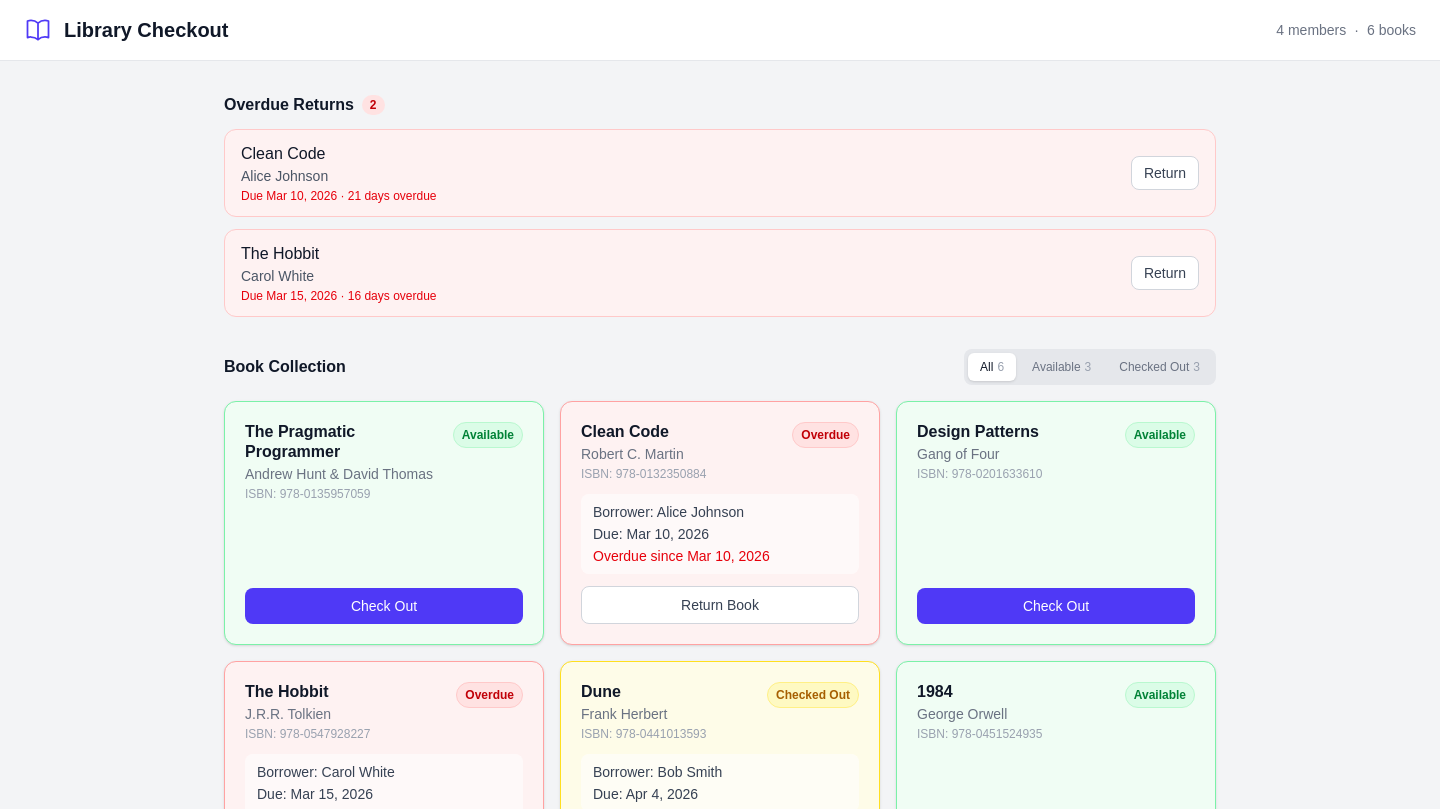
HomeView › checkout flow › opens the checkout modal when Check Out is clicked
The image size is (1440, 809).
Note: Design Patterns (b3) is available
Step 1. Click the button "Check Out" below "978-0201633610" → (1056, 606), box x1=917 y1=588 x2=1195 y2=624
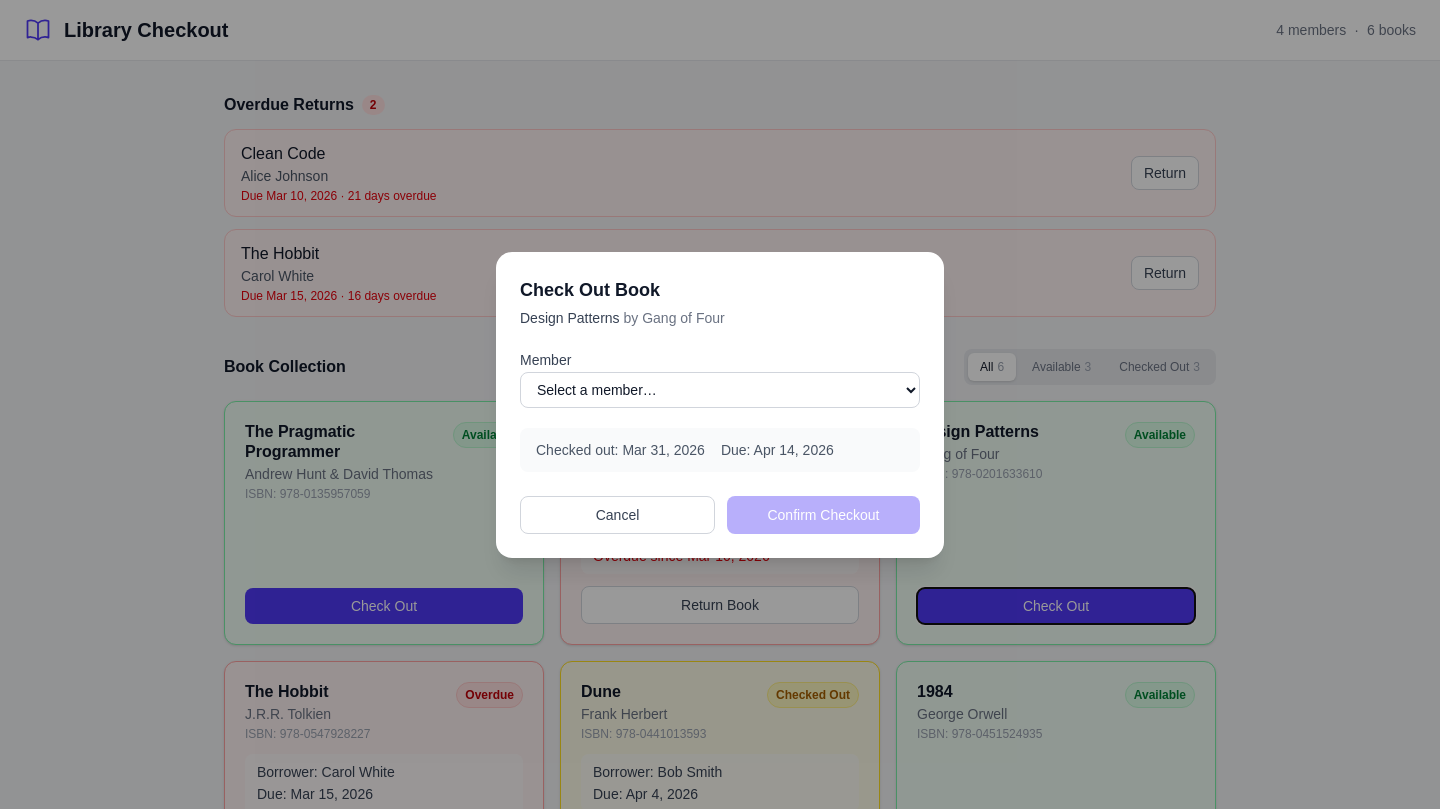
Expected: the heading "Check Out Book" is shown, x1=520 y1=280 x2=660 y2=300
